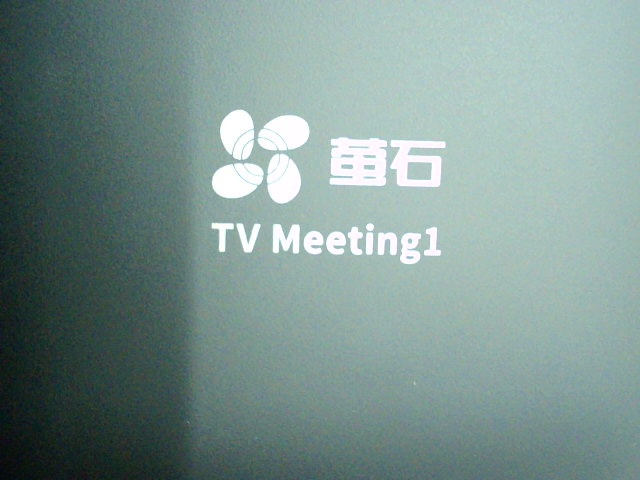BA_Yingshi: (196, 108, 451, 266)
